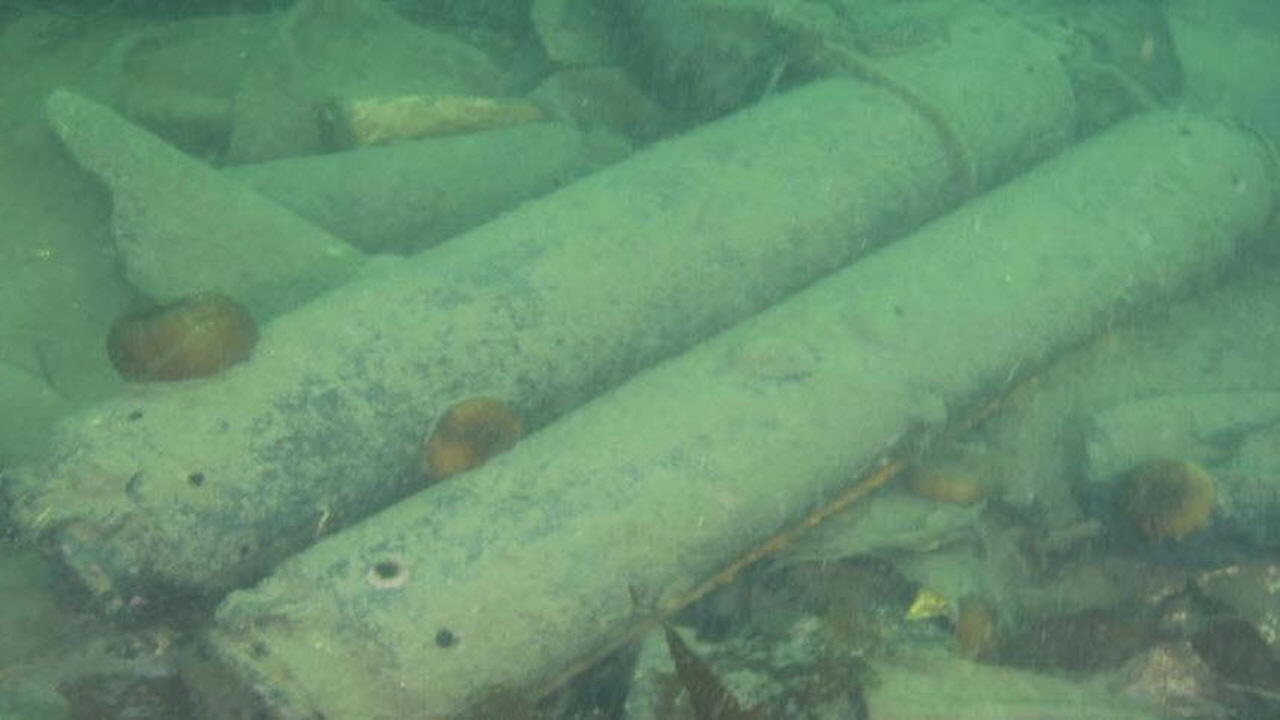eel fish trap: (203, 109, 1280, 720), (42, 6, 1097, 615)
rope: (750, 33, 983, 205)
